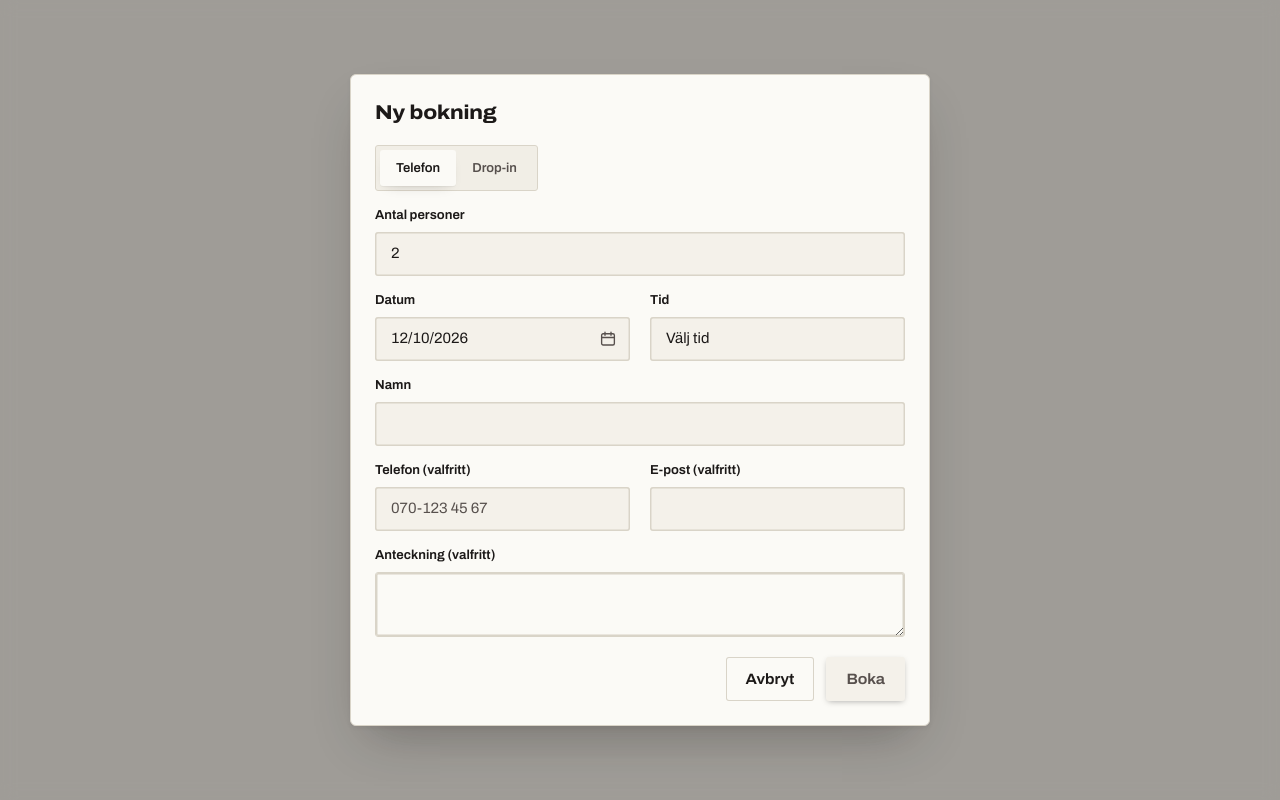
Test: time rules in the forms › a time that went stale is explained in Swedish and the list is fetched again
The width and height of the screenshot is (1280, 800).
Select "14:00" in the dropdown labelled "Tid" at coordinates (778, 339), box [650,317,905,361]
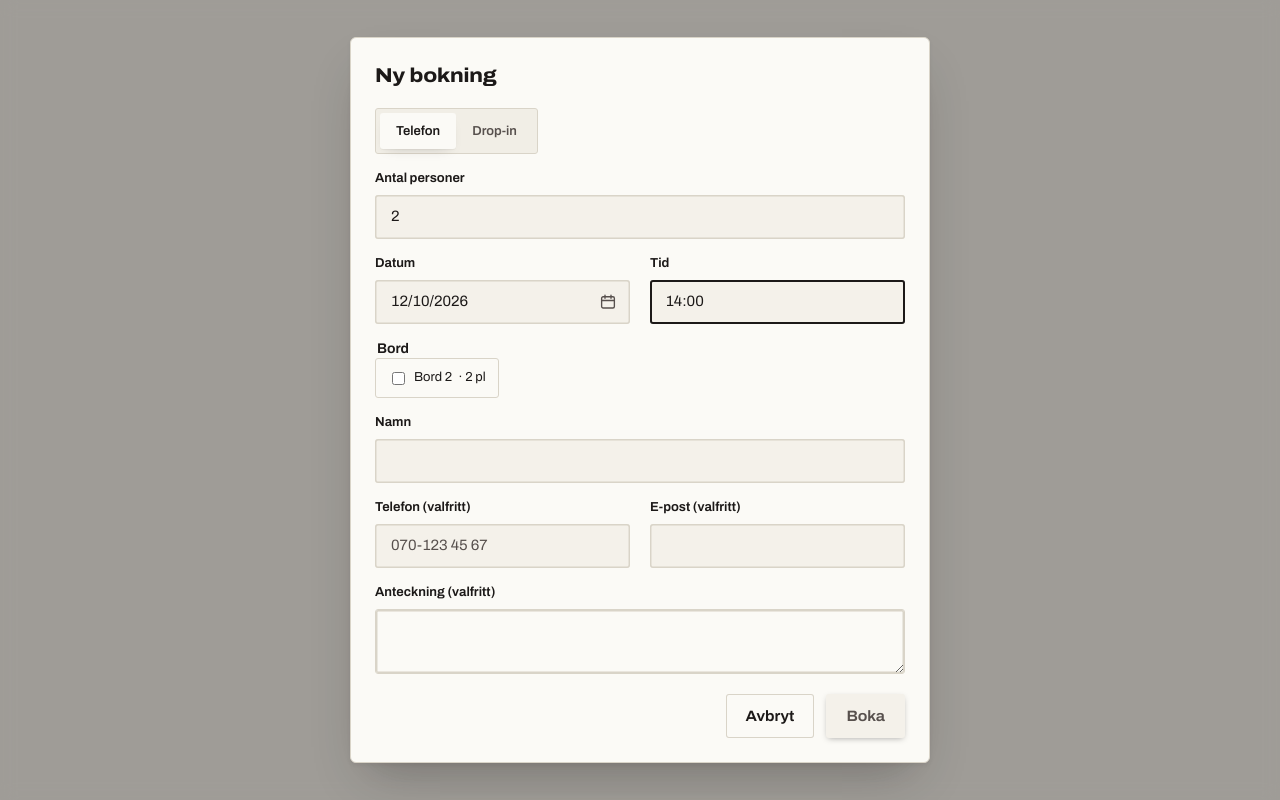
Click the checkbox labelled "Bord 2 · 2 pl" at coordinates (398, 378), box [392,372,405,384]
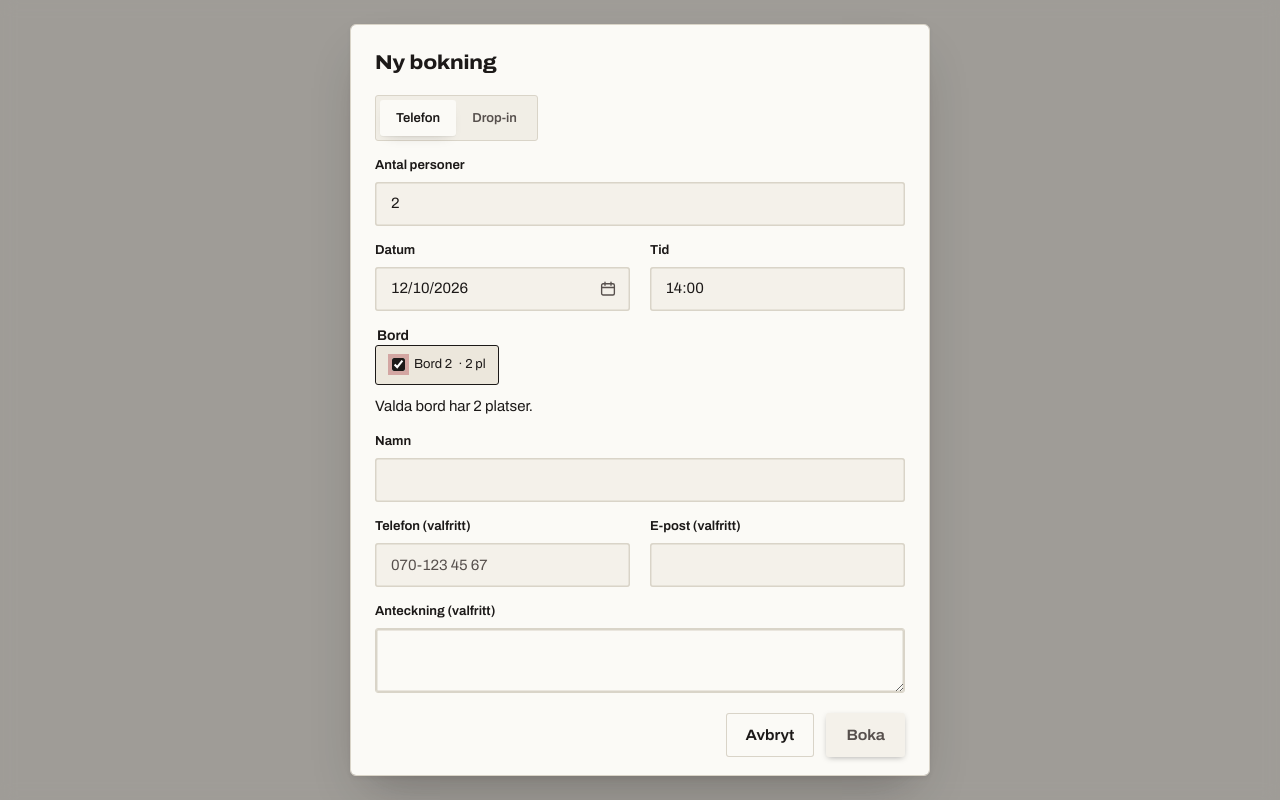
Type "Anna" into the field labelled "Namn" at coordinates (640, 480), box [375,458,905,502]
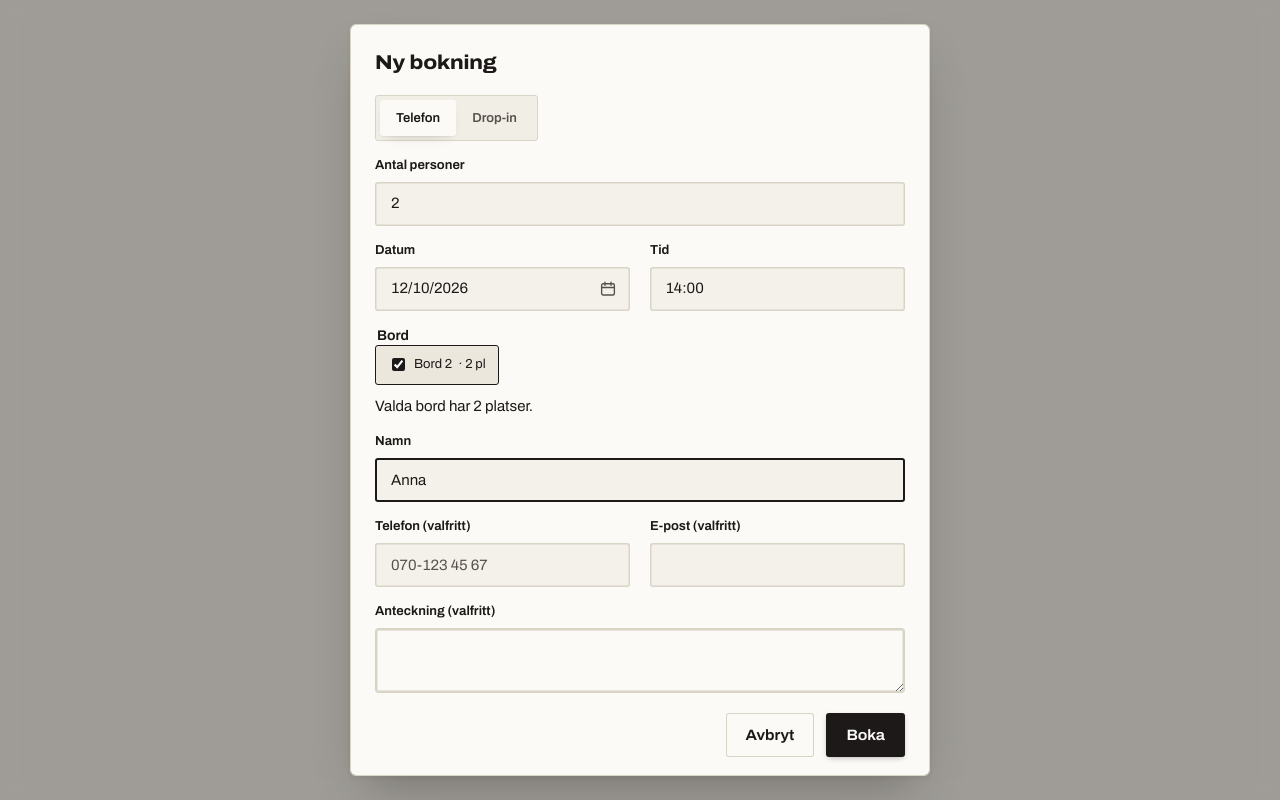
Click the button "Boka" at coordinates (866, 735), box [826,713,905,757]
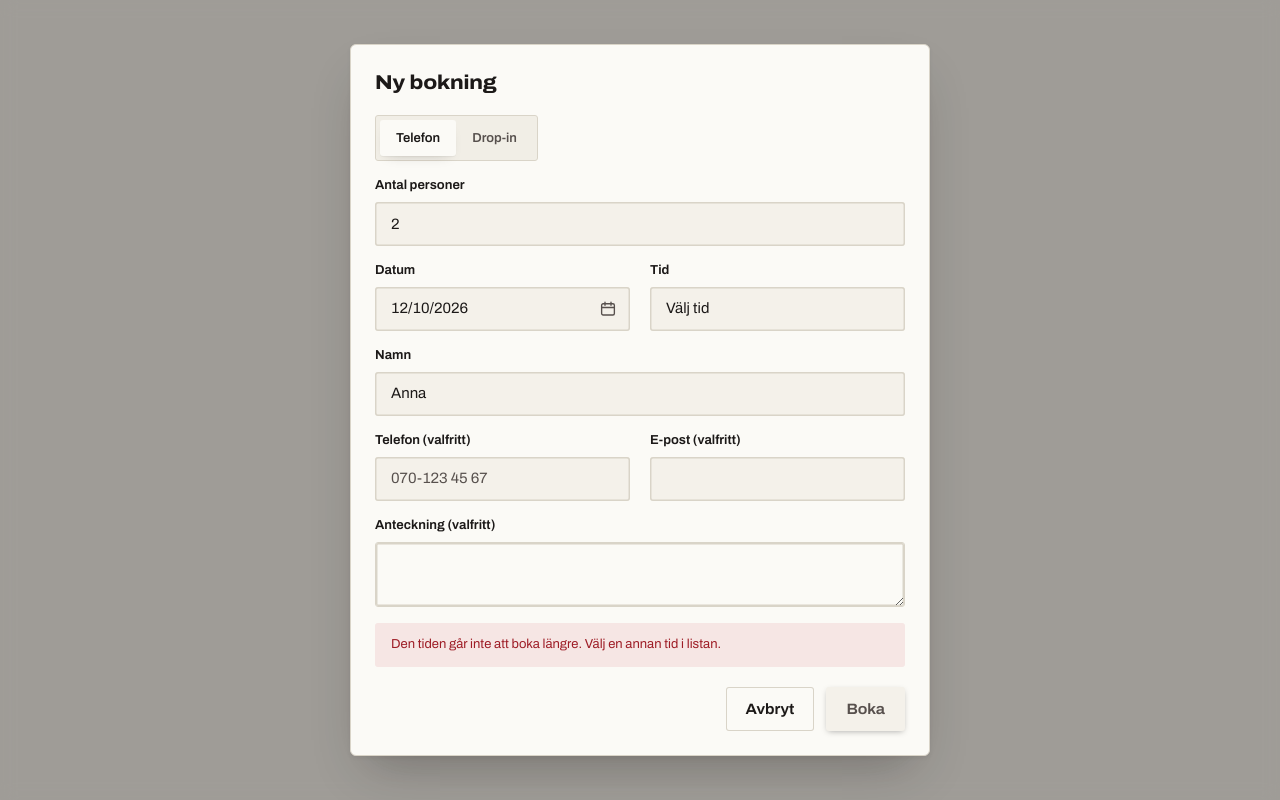
Expected: the text "Den tiden går inte att boka längre. Välj en annan tid i listan." is shown, [375,623,905,667]
